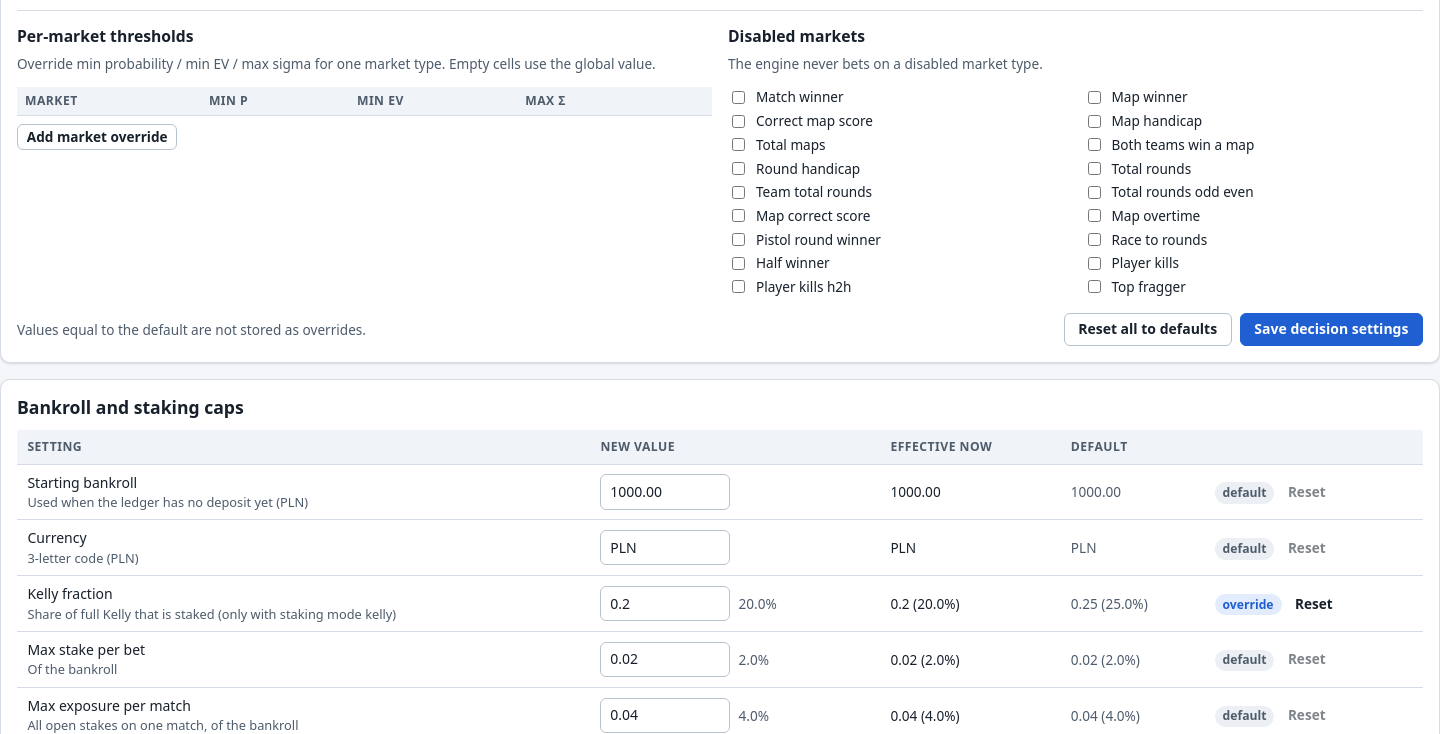
Test: SettingsPage › shows server-side 422 errors next to the field
This screenshot has width=1440, height=734.
(page scrolled)
Click the button "Save decision settings": (1331, 329) [1240, 313, 1423, 346]
(page scrolled)
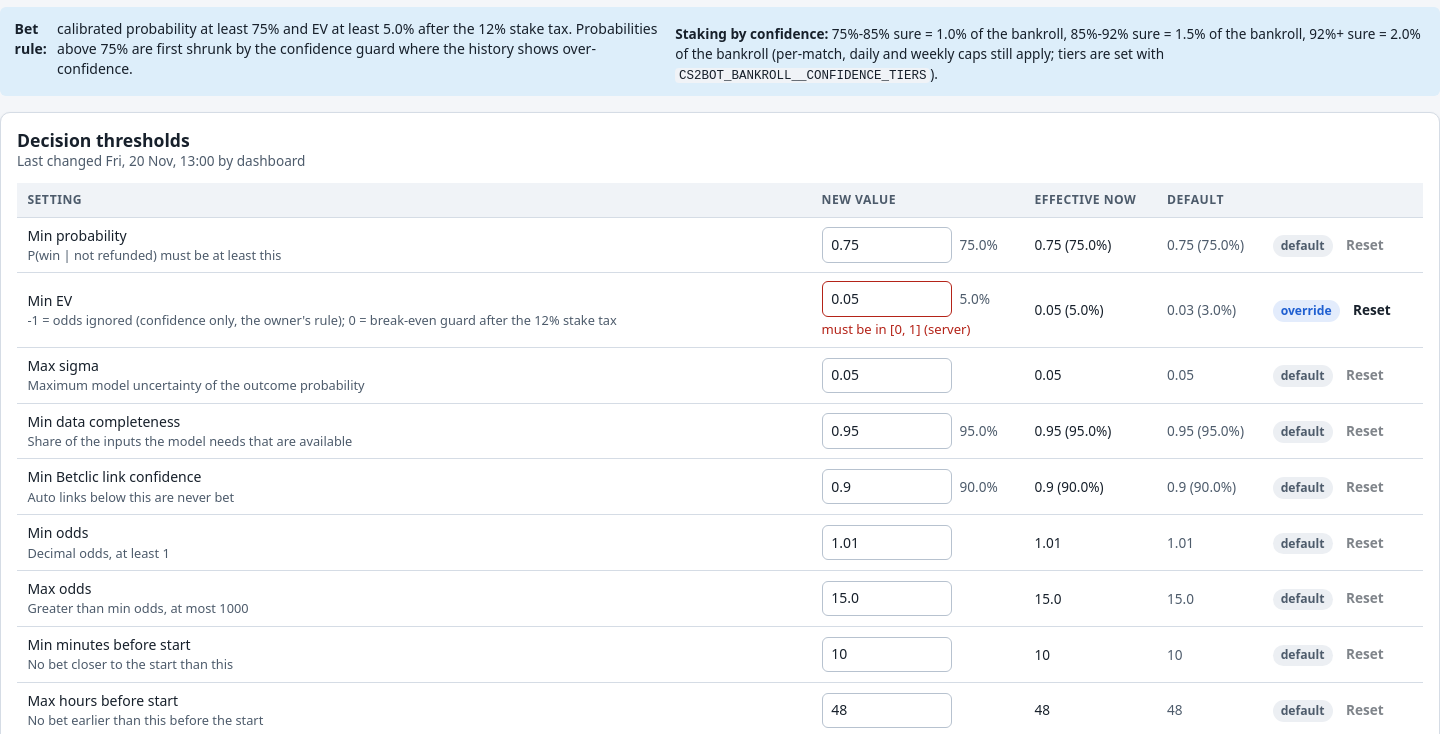
Now the text "must be in [0, 1] (server)" is shown, box [822, 320, 970, 338]
